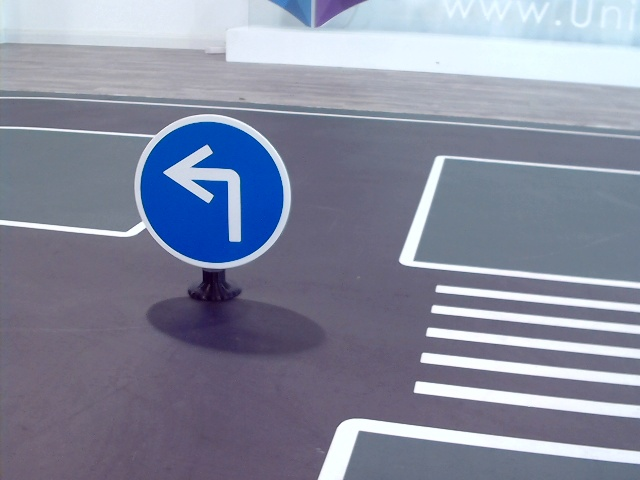turn_left: (162, 141, 249, 245)
